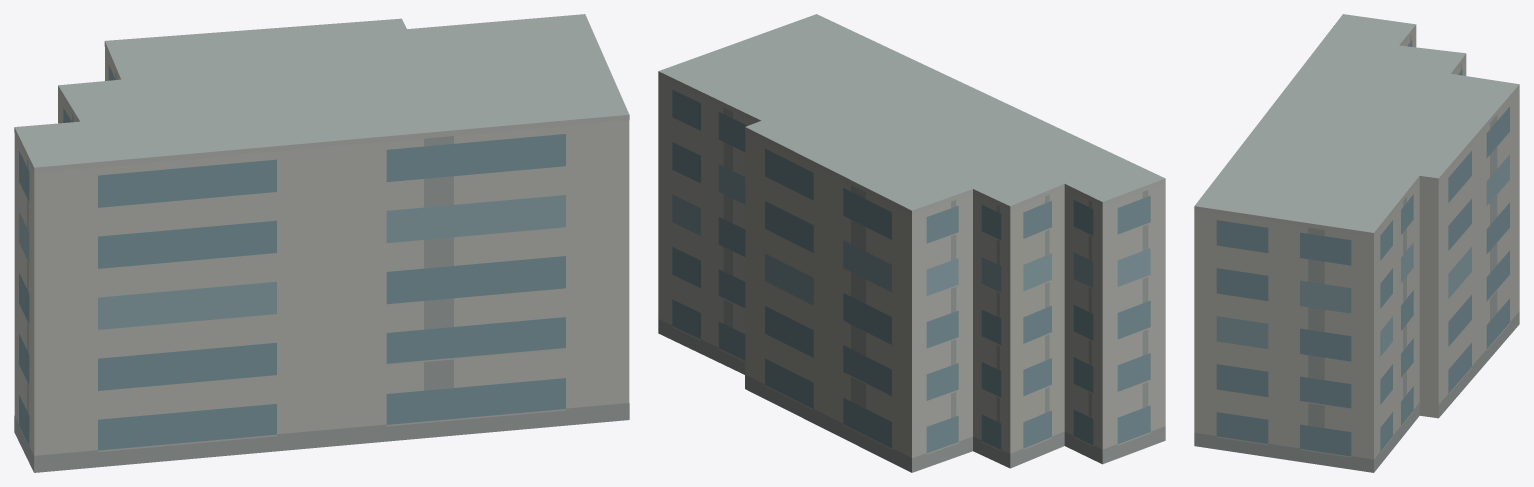
Rendered from survey-upis-32797594.glb.
The picture shows the model from 3 angles, left to right: view 1: azimuth 30°, elevation 25°; view 2: azimuth 150°, elevation 25°; view 3: azimuth 270°, elevation 25°; orthographic projection. The views are drawn at different scales.
Visible parts, largest first — view 1: survey-upis-32797594.tmp; view 2: survey-upis-32797594.tmp; view 3: survey-upis-32797594.tmp.
Boxes of the visible parts, <box> form: survey-upis-32797594.tmp: <box>14,14,629,472</box>; survey-upis-32797594.tmp: <box>658,14,1165,472</box>; survey-upis-32797594.tmp: <box>1194,14,1519,472</box>.
Bounding box in the file's own units: 25.84 × 13.2 × 16.23.
